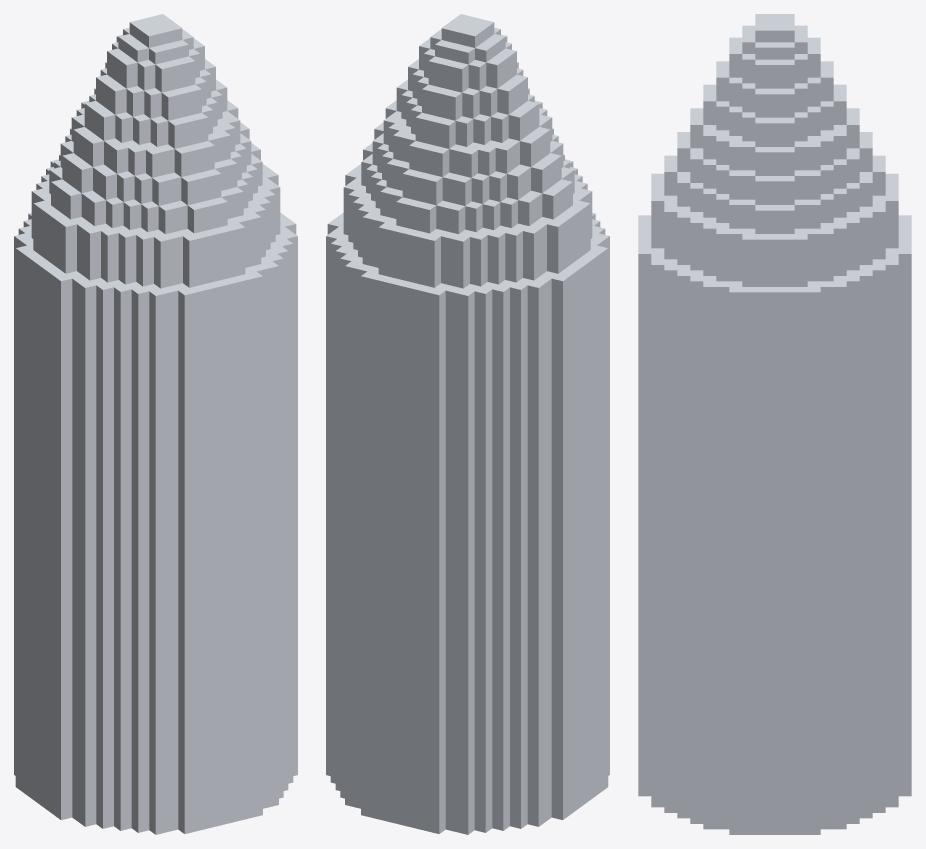
The model's file is Lake_IV_fairing_close.glb.
The picture shows the model from 3 angles, left to right: view 1: azimuth 30°, elevation 25°; view 2: azimuth 150°, elevation 25°; view 3: azimuth 270°, elevation 25°; orthographic projection.
Parts seen in each view (by area): view 1: ObjObject.014; view 2: ObjObject.014; view 3: ObjObject.014.
Part boxes in pixels (left/top/right/bottom): ObjObject.014: left=14, top=14, right=297, bottom=834; ObjObject.014: left=326, top=14, right=609, bottom=834; ObjObject.014: left=638, top=14, right=911, bottom=834.
Bounding box in the file's own units: 2.1 × 6.4 × 2.1.
1 material, 1 textured.
